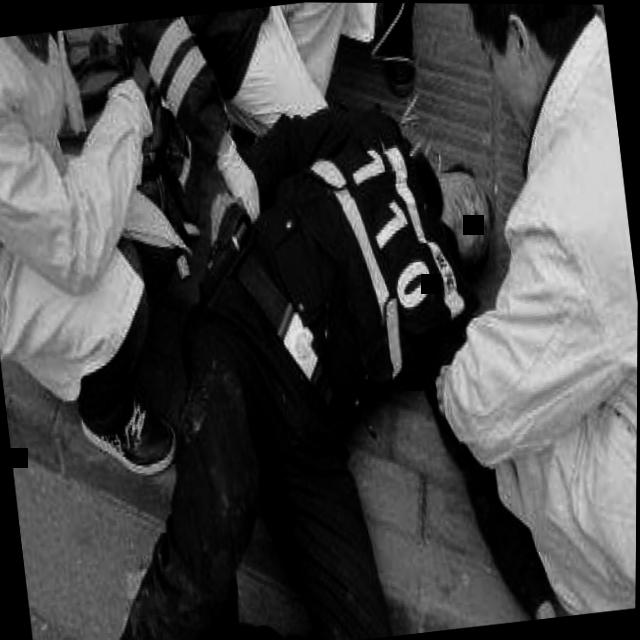Fall-Detected: (26, 29, 539, 640)
